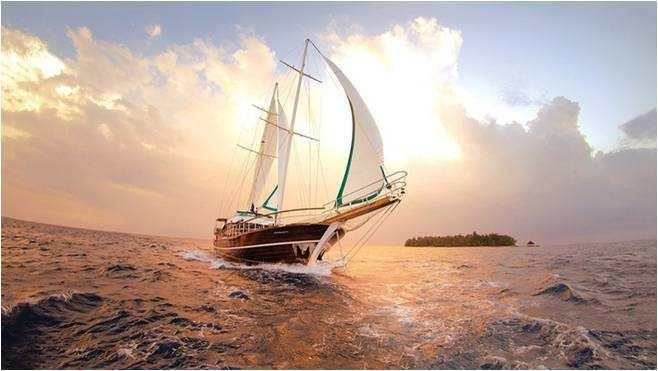fanchuan: (202, 38, 406, 271)
